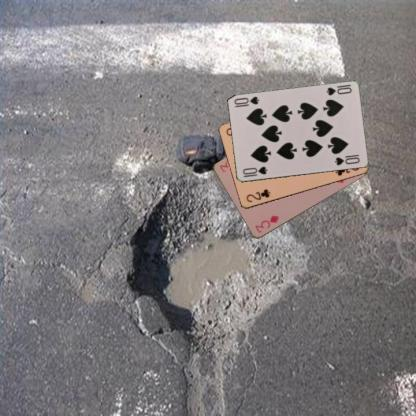10s: (240, 164, 269, 179), (324, 84, 352, 96)
2c: (244, 186, 272, 204)
3d: (252, 213, 280, 235)
